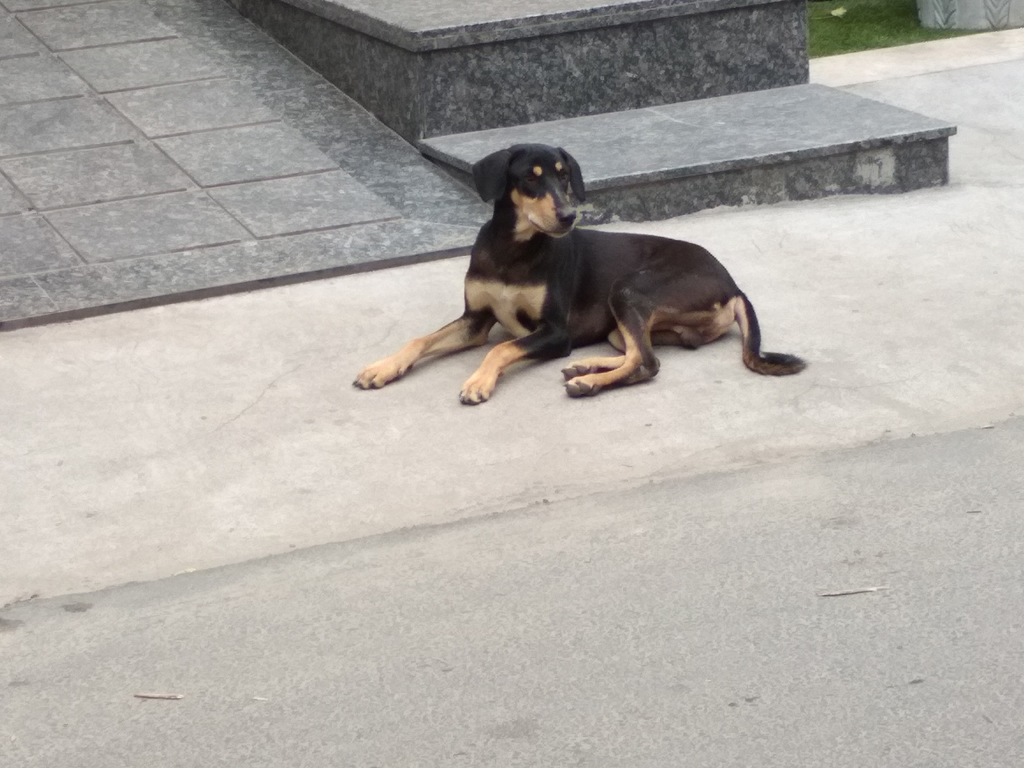dog: (352, 142, 810, 405)
